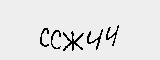Ж: (62, 28, 86, 53)
С: (37, 26, 52, 50), (49, 27, 64, 49)
Ч: (84, 25, 106, 52), (104, 22, 120, 46)
